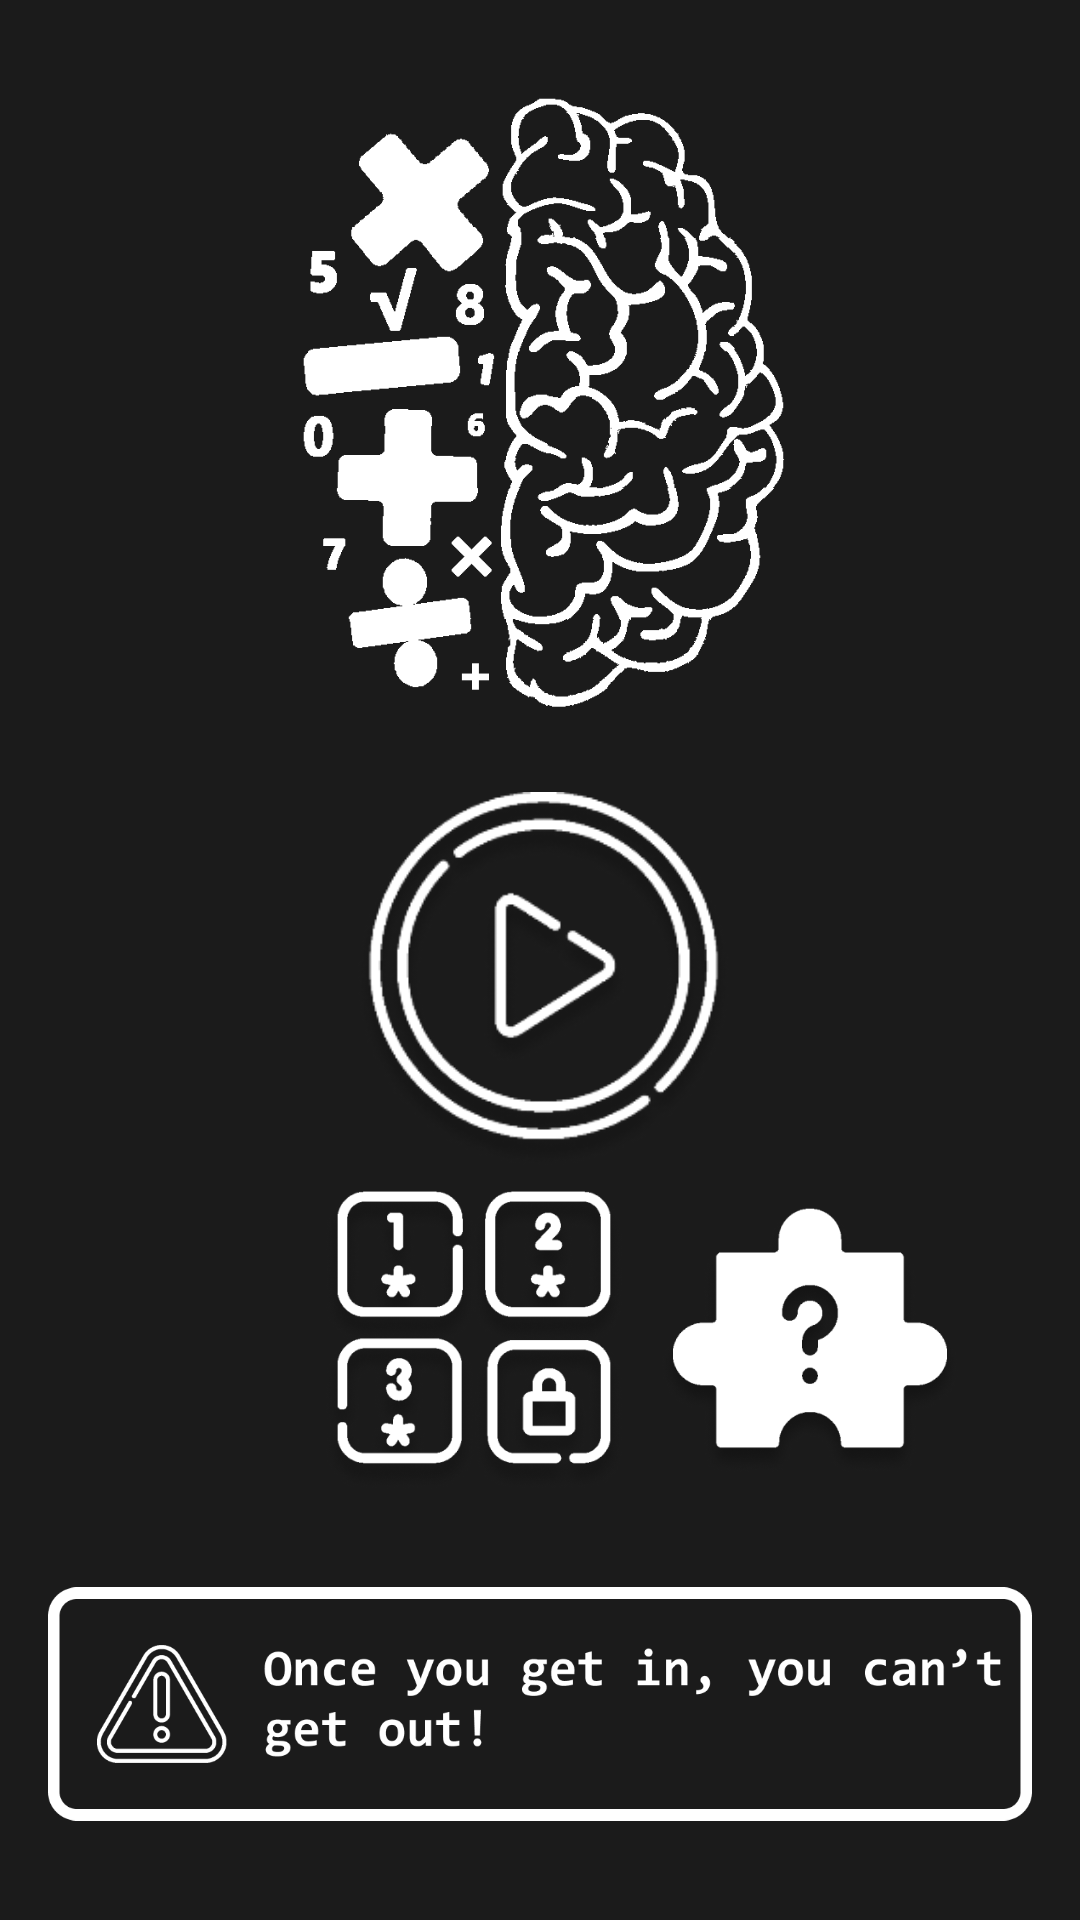

Icon bounding boxes for this 1080x1920 phone screenshot, format {"x1": x1, "y1": y1, "x2": x2, "y2": y2}:
levelsbtn: {"x1": 337, "y1": 1191, "x2": 611, "y2": 1464}
playbtn: {"x1": 369, "y1": 792, "x2": 718, "y2": 1140}
riddlesbtn: {"x1": 673, "y1": 1208, "x2": 947, "y2": 1448}
